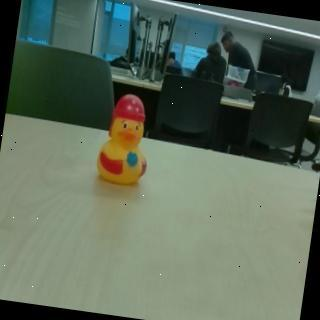duck_specialty: (93, 89, 159, 190)
